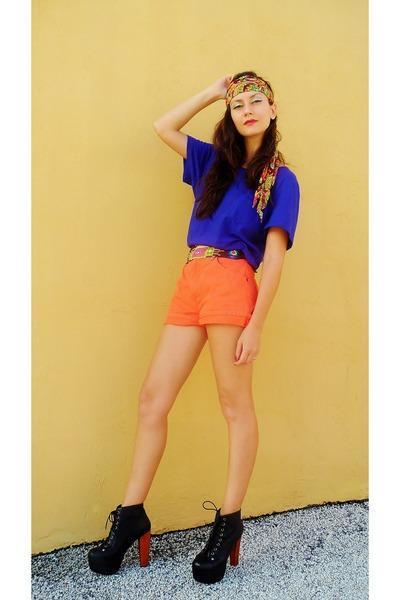shirt: (183, 136, 299, 271)
shoe: (88, 503, 250, 584)
shorts: (168, 245, 258, 346)
